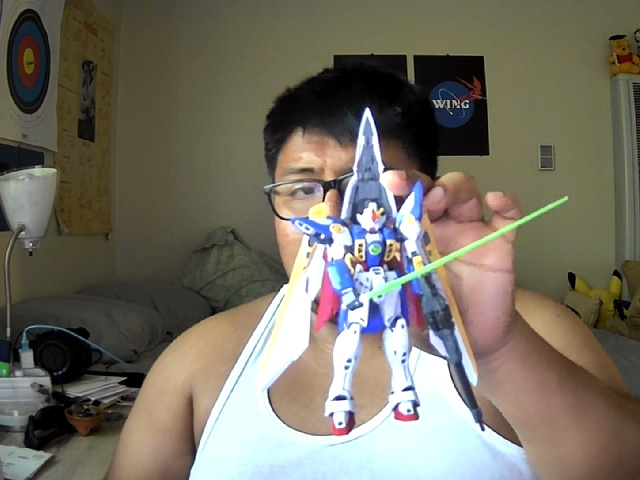Wing-01: (256, 109, 484, 434)
